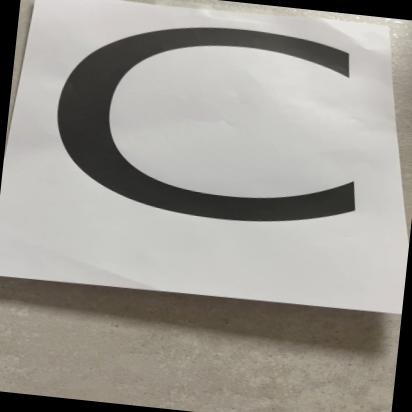seat: (1, 0, 412, 308)
